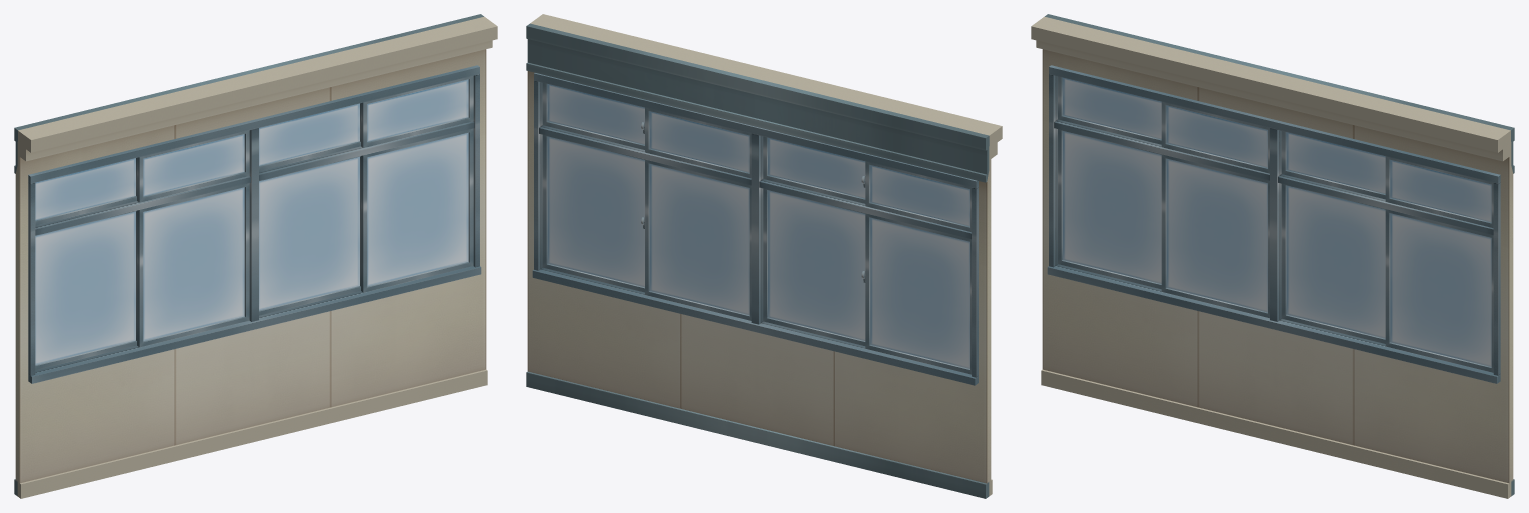
The model's file is SHW_Window_01_02.fbx.
3 renders of one model, left to right at view 1: azimuth 30°, elevation 25°; view 2: azimuth 150°, elevation 25°; view 3: azimuth 330°, elevation 25°, orthographic.
Parts seen in each view (by area): view 1: wall01, glass02 (×8), window, window01_02, window01_04, window02_02, window02_04, window01_03, window01_01, window02_03, window02_01; view 2: wall01, glass01 (×8), window, window01_01, window01_03, window01_04, window01_02, window02_03, window02_01, window02_04, window02_02; view 3: wall01, glass02 (×8), window, window01_04, window01_02, window01_03, window01_01, window02_04, window02_02, window02_03, window02_01.
Part boxes in pixels (left/top/right/bottom): wall01: left=14, top=14, right=497, bottom=498; glass02 (×8): left=35, top=79, right=468, bottom=364; window: left=28, top=65, right=481, bottom=383; window01_02: left=137, top=183, right=249, bottom=347; window01_04: left=361, top=128, right=473, bottom=292; window02_02: left=137, top=130, right=249, bottom=202; window02_04: left=361, top=75, right=473, bottom=147; window01_03: left=259, top=156, right=360, bottom=315; window01_01: left=35, top=210, right=136, bottom=370; window02_03: left=259, top=103, right=360, bottom=170; window02_01: left=35, top=158, right=136, bottom=225; wall01: left=526, top=14, right=1002, bottom=498; glass01 (×8): left=547, top=84, right=969, bottom=368; window: left=532, top=73, right=978, bottom=385; window01_01: left=864, top=213, right=971, bottom=374; window01_03: left=644, top=159, right=751, bottom=320; window01_04: left=542, top=134, right=644, bottom=292; window01_02: left=763, top=188, right=865, bottom=345; window02_03: left=644, top=107, right=751, bottom=178; window02_01: left=864, top=161, right=971, bottom=232; window02_04: left=542, top=83, right=644, bottom=149; window02_02: left=763, top=136, right=865, bottom=203; wall01: left=1031, top=14, right=1514, bottom=498; glass02 (×8): left=1063, top=77, right=1491, bottom=366; window: left=1047, top=65, right=1500, bottom=383; window01_04: left=1385, top=209, right=1493, bottom=372; window01_02: left=1161, top=154, right=1269, bottom=318; window01_03: left=1281, top=184, right=1385, bottom=343; window01_01: left=1058, top=129, right=1161, bottom=289; window02_04: left=1385, top=156, right=1493, bottom=228; window02_02: left=1161, top=101, right=1269, bottom=173; window02_03: left=1281, top=131, right=1385, bottom=199; window02_01: left=1058, top=76, right=1161, bottom=144.
Size of the model in its own units: 400 by 300 by 28.5.
